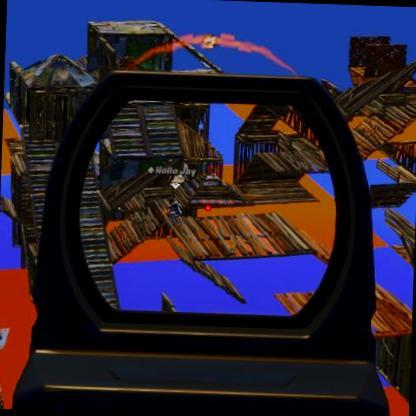person: (170, 198, 184, 219)
